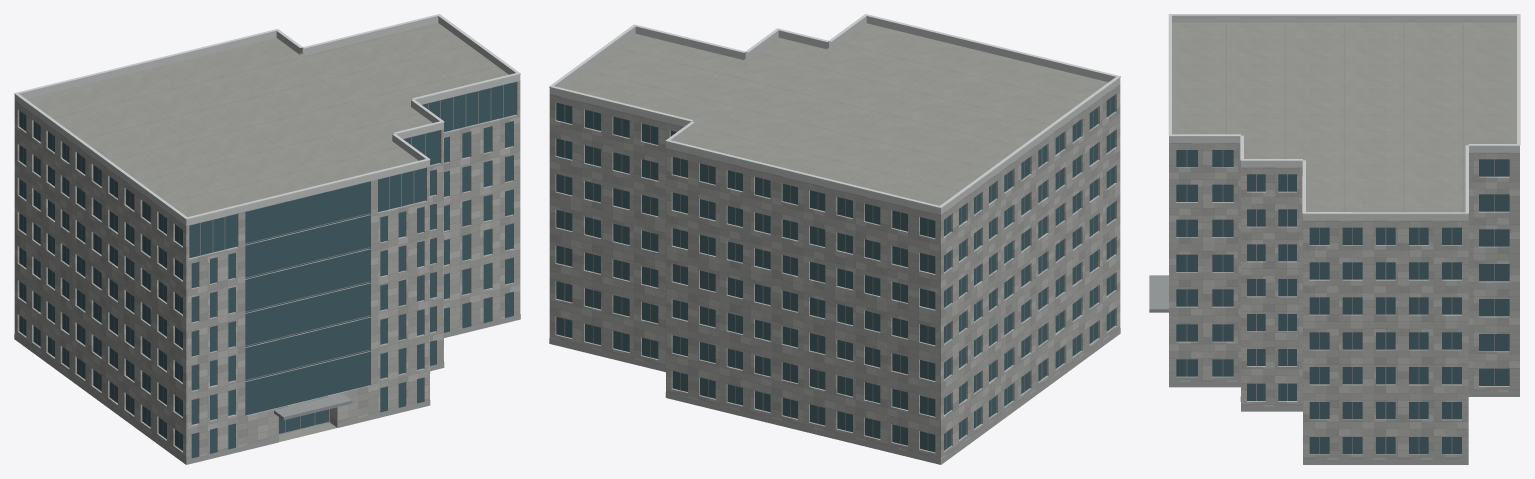
The picture shows the model from 3 angles, left to right: view 1: azimuth 30°, elevation 25°; view 2: azimuth 150°, elevation 25°; view 3: azimuth 270°, elevation 25°; orthographic projection. The views are drawn at different scales.
Parts seen in each view (by area): view 1: robotConvergence__wall, robotConvergence__glass, robotConvergence__roof, robotConvergence__parapet, robotConvergence__trim, robotConvergence__frame, robotConvergence__base, robotConvergence__canopy; view 2: robotConvergence__wall, robotConvergence__roof, robotConvergence__glass, robotConvergence__parapet, robotConvergence__frame, robotConvergence__trim, robotConvergence__base; view 3: robotConvergence__wall, robotConvergence__roof, robotConvergence__glass, robotConvergence__parapet, robotConvergence__trim, robotConvergence__base, robotConvergence__frame, robotConvergence__canopy.
Boxes of the visible parts, bbox=[...] form: robotConvergence__wall: bbox=[14, 80, 520, 464]; robotConvergence__glass: bbox=[19, 82, 516, 458]; robotConvergence__roof: bbox=[26, 23, 508, 441]; robotConvergence__parapet: bbox=[14, 16, 520, 225]; robotConvergence__trim: bbox=[14, 14, 520, 219]; robotConvergence__frame: bbox=[23, 85, 503, 448]; robotConvergence__base: bbox=[14, 314, 520, 464]; robotConvergence__canopy: bbox=[274, 393, 352, 420]; robotConvergence__wall: bbox=[549, 84, 1120, 464]; robotConvergence__roof: bbox=[561, 23, 1107, 205]; robotConvergence__glass: bbox=[556, 95, 1115, 452]; robotConvergence__parapet: bbox=[549, 16, 1120, 214]; robotConvergence__frame: bbox=[564, 98, 1110, 450]; robotConvergence__trim: bbox=[549, 14, 1120, 208]; robotConvergence__base: bbox=[549, 328, 1120, 464]; robotConvergence__wall: bbox=[1169, 143, 1519, 459]; robotConvergence__roof: bbox=[1172, 22, 1516, 212]; robotConvergence__glass: bbox=[1176, 150, 1509, 454]; robotConvergence__parapet: bbox=[1169, 15, 1519, 220]; robotConvergence__trim: bbox=[1168, 14, 1520, 214]; robotConvergence__base: bbox=[1169, 382, 1519, 464]; robotConvergence__frame: bbox=[1186, 150, 1494, 454]; robotConvergence__canopy: bbox=[1149, 275, 1168, 312].
Bounding box in the file's own units: 47.87 × 28.1 × 37.61.
Materials: 9 (2 with a texture image).
